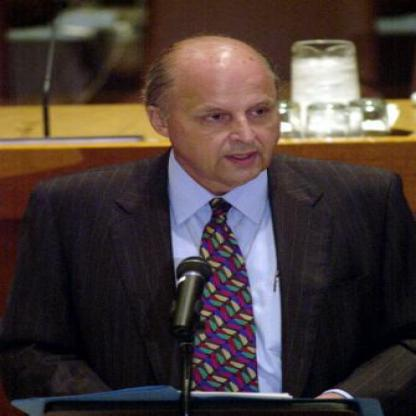face: (165, 41, 283, 188)
